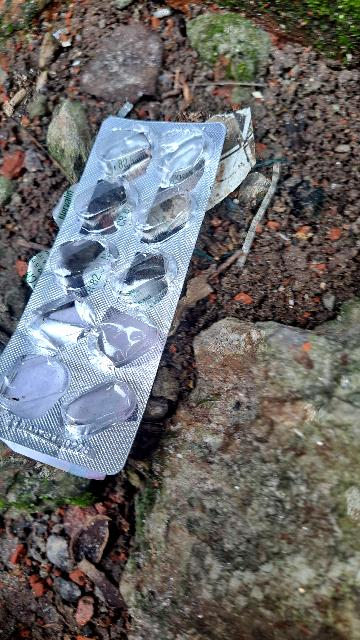medicine: (0, 77, 226, 481)
